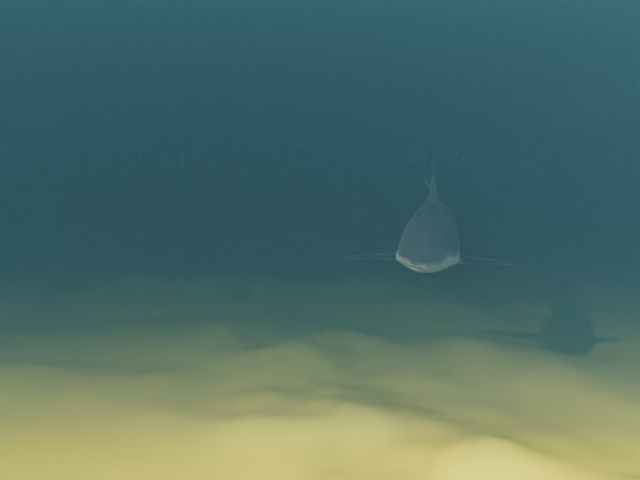Carribean Shark.001: (338, 156, 526, 272)
